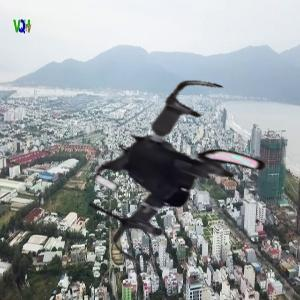drone: (80, 75, 290, 285)
